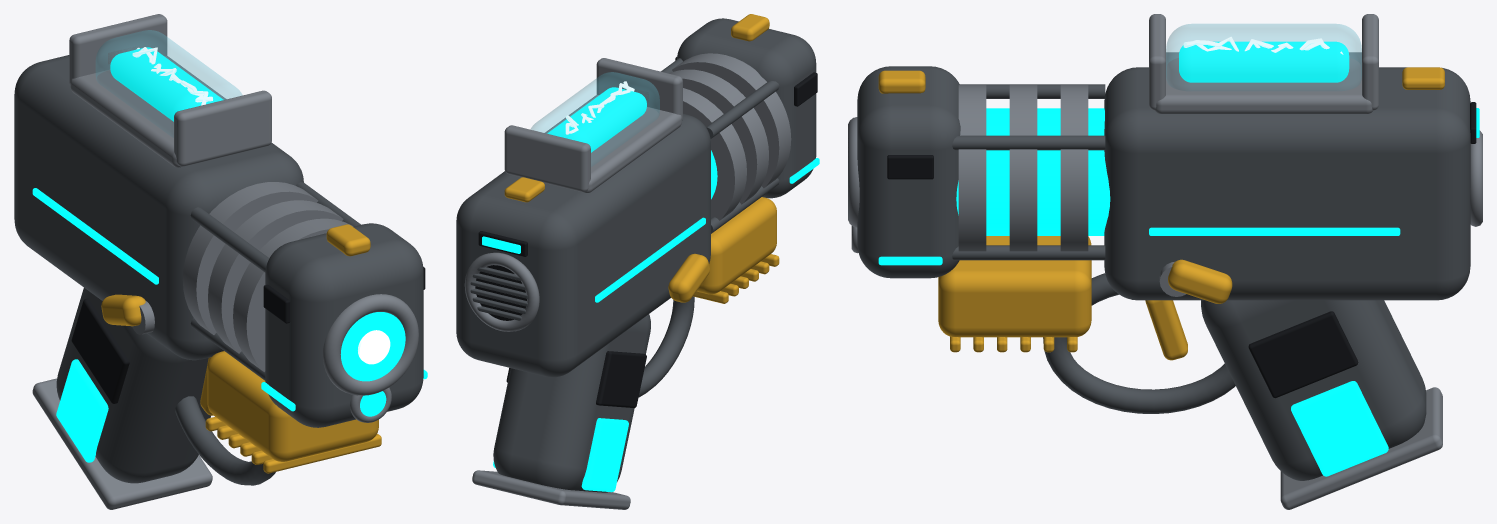
Rendered from Super_Laser.glb.
3 renders of one model, left to right at view 1: azimuth 30°, elevation 25°; view 2: azimuth 150°, elevation 25°; view 3: azimuth 270°, elevation 25°, orthographic. The views are drawn at different scales.
Visible parts, largest first — view 1: Body, Muzzle, Grip, PlasmaChamber, GoldRail, PlasmaFrame_Front, Coil1, Coil2, Grip_BaseCap, PlasmaFrame, ArcEmitter_Ring, Coil3 (+19 smaller); view 2: Body, Grip, Muzzle, PlasmaChamber, PlasmaFrame_Rear, GoldRail, Coil3, Coil2, Coil1, PlasmaFrame, PlasmaCore, PlasmaFrame_Front (+15 smaller); view 3: Body, Grip, Muzzle, PlasmaChamber, GoldRail, CoilCore, PlasmaFrame, PlasmaCore, Battery_L, TriggerGuard, GripStrip_L, Coil1 (+16 smaller).
Part boxes in pixels (x1,y1,x2,y2): Body: (14,55,303,360); Muzzle: (265,223,423,427); Grip: (56,288,210,483); PlasmaChamber: (96,30,242,137); GoldRail: (207,351,378,461); PlasmaFrame_Front: (174,90,271,166); Coil1: (182,182,318,334); Coil2: (208,200,343,353); Grip_BaseCap: (32,378,212,509); PlasmaFrame: (70,56,226,167); ArcEmitter_Ring: (322,294,418,395); Coil3: (233,218,353,371); Body: (456,113,710,377); Grip: (493,314,650,492); Muzzle: (677,18,816,198); PlasmaChamber: (531,72,659,166); PlasmaFrame_Rear: (504,125,590,192); GoldRail: (696,197,776,294); Coil3: (672,53,791,188); Coil2: (669,69,768,204); Coil1: (683,88,746,220); PlasmaFrame: (545,95,681,192); PlasmaCore: (547,87,646,152); PlasmaFrame_Front: (596,58,682,120); Body: (1104,67,1470,300); Grip: (1201,300,1426,480); Muzzle: (857,66,960,278); PlasmaChamber: (1166,24,1361,90); GoldRail: (938,236,1091,337); CoilCore: (956,108,1110,235); PlasmaFrame: (1154,52,1373,113); PlasmaCore: (1179,41,1349,82); Battery_L: (1291,381,1388,476); TriggerGuard: (1043,273,1235,413); GripStrip_L: (1248,311,1358,398); Coil1: (1060,85,1088,251).
Bounding box in the file's own units: 0.098 × 0.2346 × 0.2982.
